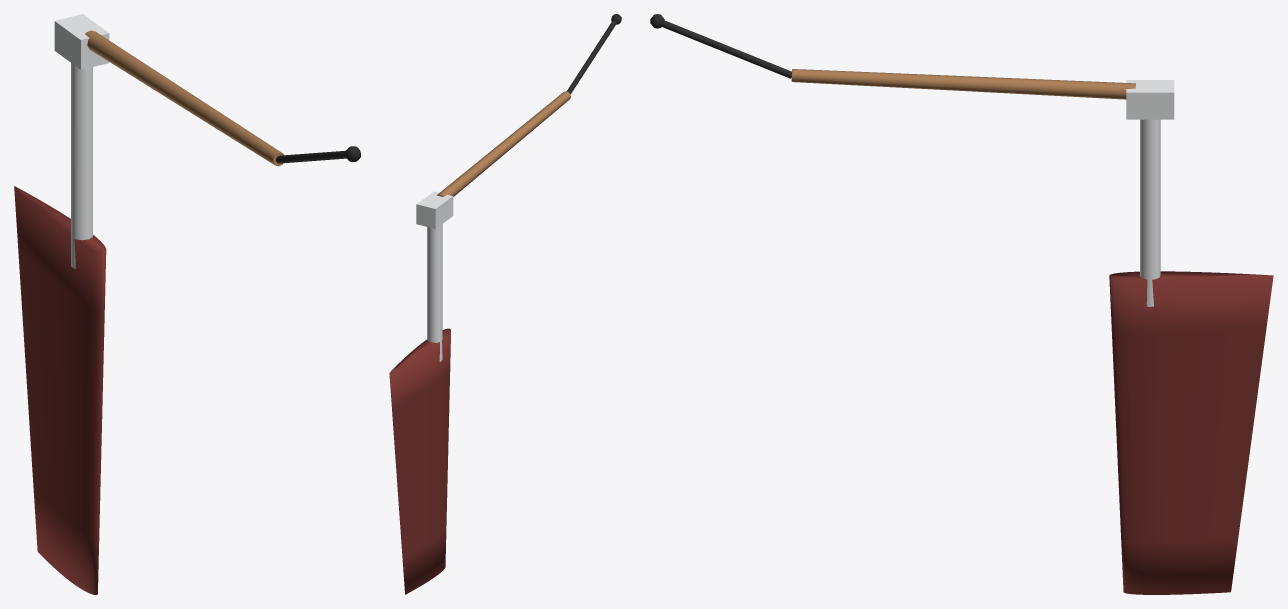
Rendered from dehler31_tiller.glb.
3 renders of one model, left to right at view 1: azimuth 30°, elevation 25°; view 2: azimuth 150°, elevation 25°; view 3: azimuth 270°, elevation 25°, orthographic. The views are drawn at different scales.
Parts seen in each view (by area): view 1: Ruderblatt_x, Pinne_x; view 2: Ruderblatt_x, Pinne_x; view 3: Ruderblatt_x, Pinne_x.
Boxes of the visible parts, left/top/right/bottom form: Ruderblatt_x: left=14, top=186, right=106, bottom=594; Pinne_x: left=54, top=14, right=360, bottom=268; Ruderblatt_x: left=389, top=328, right=450, bottom=594; Pinne_x: left=416, top=14, right=621, bottom=361; Ruderblatt_x: left=1109, top=271, right=1273, bottom=594; Pinne_x: left=650, top=14, right=1174, bottom=306.
Bounding box in the file's own units: 0.1 × 2.13 × 2.09.
